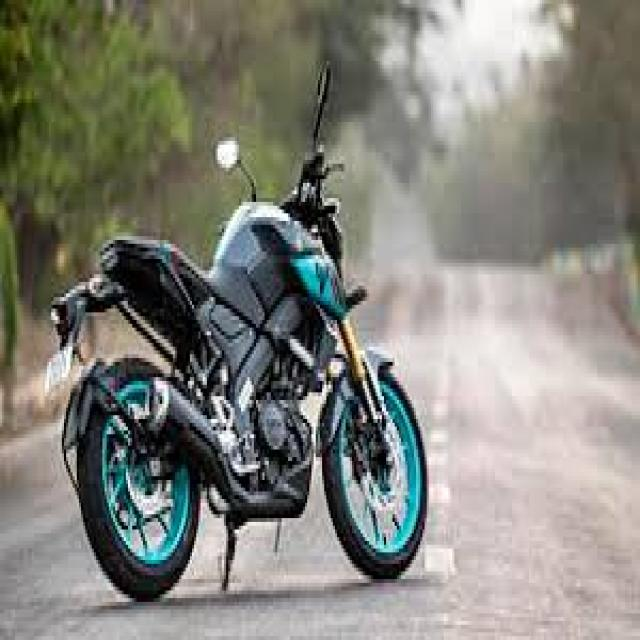Bike: (45, 59, 429, 602)
